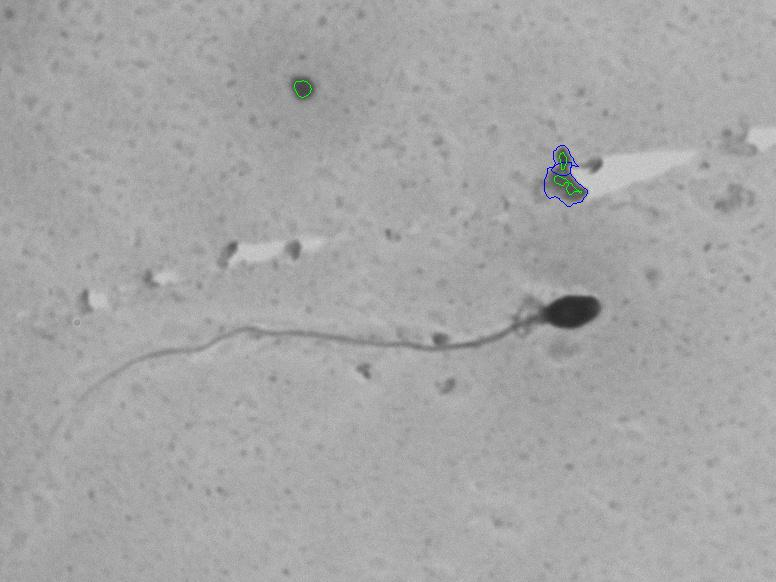Normal: (53, 266, 624, 466)
